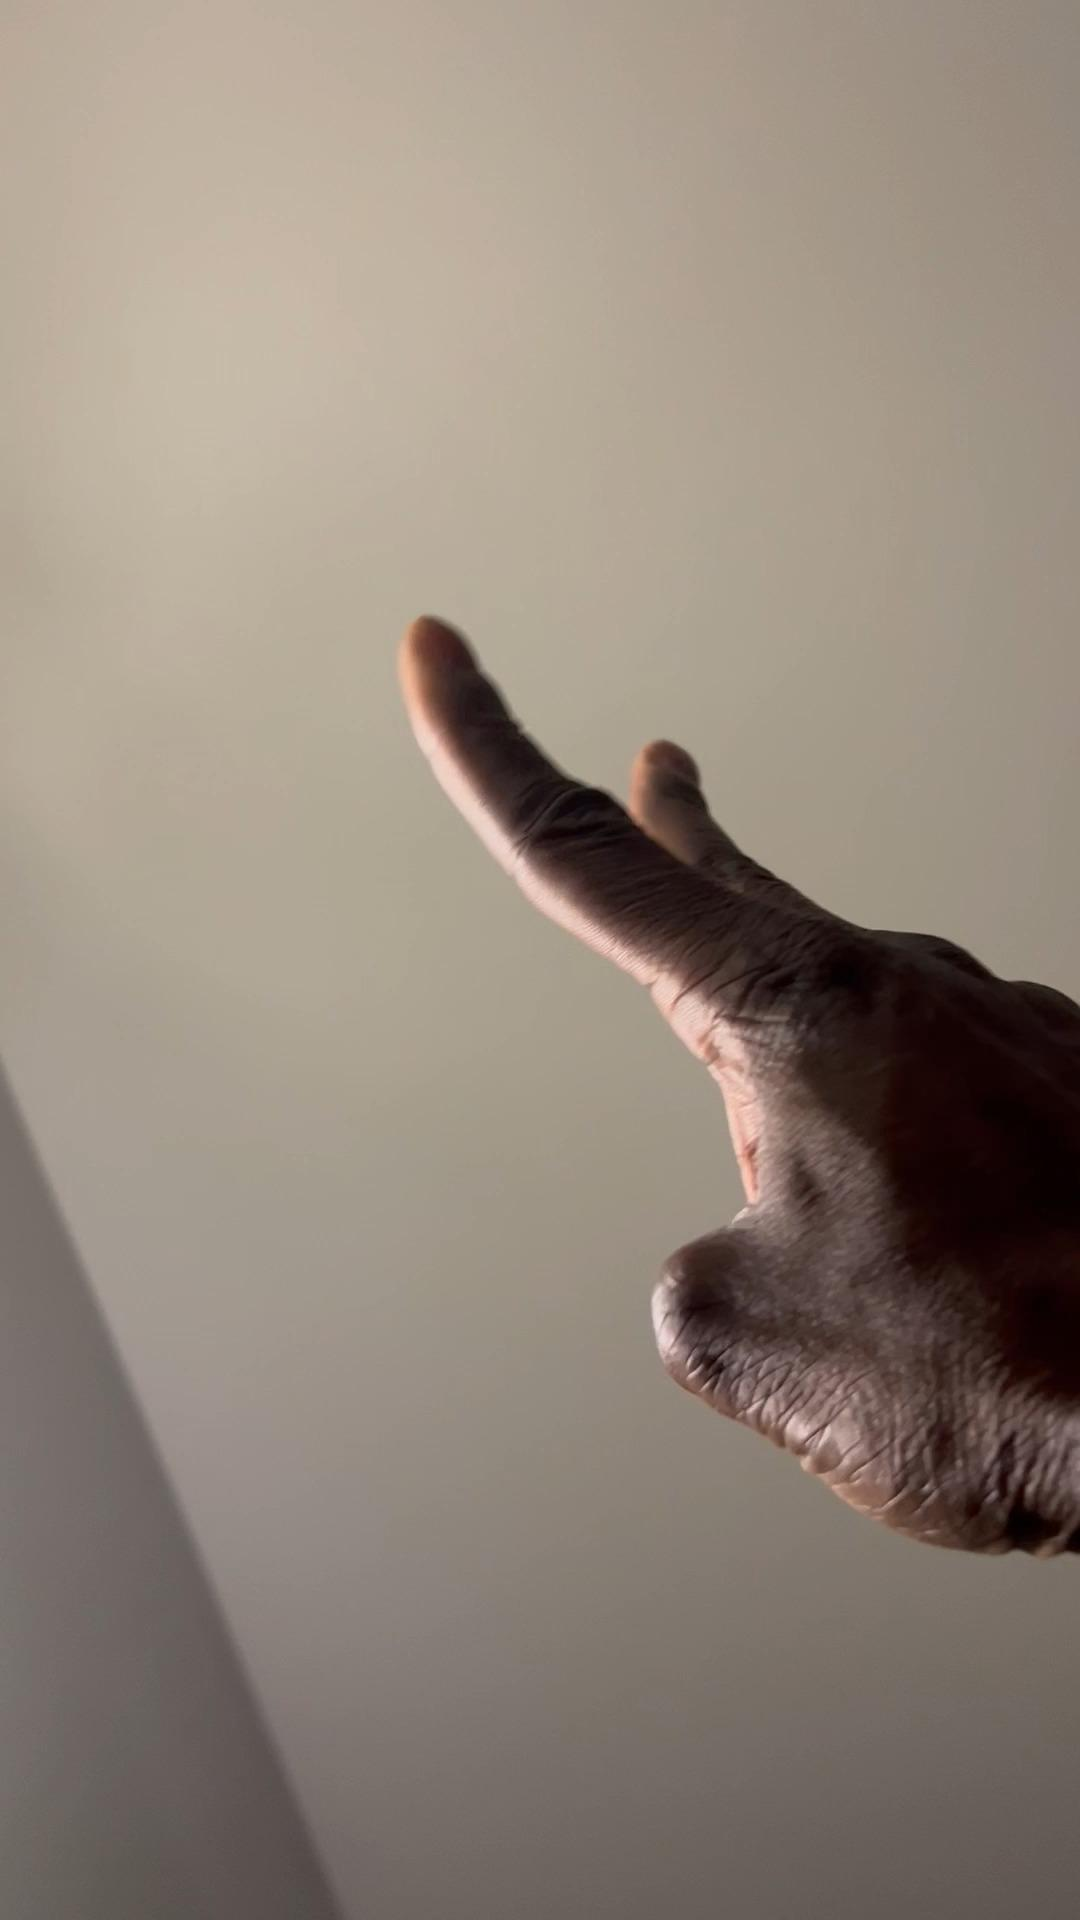Scissors: (397, 611, 1080, 1559)
